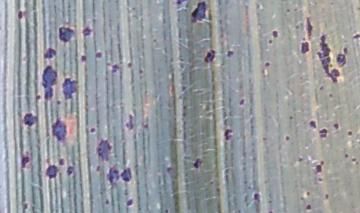tarspot: (315, 34, 341, 85), (40, 64, 58, 102), (188, 1, 211, 26), (50, 116, 68, 145), (95, 139, 114, 162), (61, 77, 78, 101), (57, 24, 75, 45), (20, 112, 39, 130), (105, 164, 120, 185), (44, 164, 61, 181), (123, 111, 136, 133), (304, 15, 315, 40), (202, 48, 217, 65), (120, 166, 134, 184), (335, 51, 348, 69), (42, 47, 58, 61), (105, 62, 120, 75), (19, 156, 31, 171), (299, 40, 310, 56), (222, 127, 233, 142), (313, 160, 324, 175), (318, 127, 328, 141), (66, 165, 77, 177), (192, 157, 202, 170), (251, 191, 261, 204), (306, 119, 317, 130), (81, 25, 91, 37), (124, 198, 135, 208), (271, 28, 280, 40), (225, 49, 235, 58), (57, 157, 66, 167), (283, 133, 292, 143), (16, 9, 24, 20), (94, 51, 103, 60), (125, 61, 134, 70), (294, 21, 303, 30), (88, 125, 96, 135), (238, 97, 246, 107), (304, 203, 312, 213), (79, 54, 87, 63), (351, 32, 360, 40), (332, 121, 340, 130), (254, 2, 261, 12), (103, 198, 111, 206), (317, 84, 325, 92), (214, 186, 222, 194), (137, 67, 145, 75), (95, 164, 102, 173), (22, 201, 29, 210), (34, 93, 41, 102), (342, 46, 349, 55), (174, 1, 186, 6), (346, 130, 354, 137), (323, 193, 330, 201), (316, 176, 324, 183), (326, 92, 333, 100), (165, 166, 173, 173), (260, 135, 268, 142), (264, 60, 270, 69), (349, 157, 358, 163), (55, 99, 62, 106), (298, 195, 305, 202), (142, 123, 149, 130), (284, 7, 291, 14), (305, 190, 311, 198), (264, 209, 275, 213), (267, 38, 273, 45), (209, 179, 214, 187), (163, 207, 169, 213), (354, 161, 360, 167), (297, 156, 303, 162), (343, 152, 348, 159), (288, 115, 294, 120), (292, 6, 297, 12)
